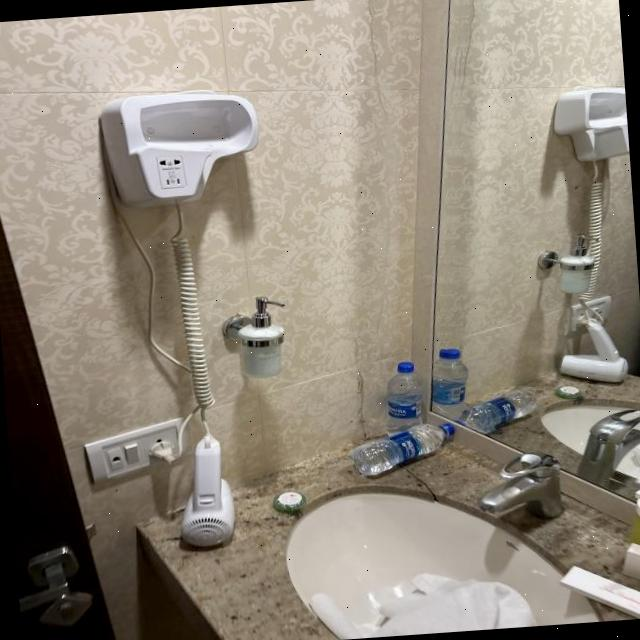disorganized_towel: (307, 567, 546, 639)
mess: (164, 407, 506, 551)
messy_sink: (233, 405, 640, 640)
